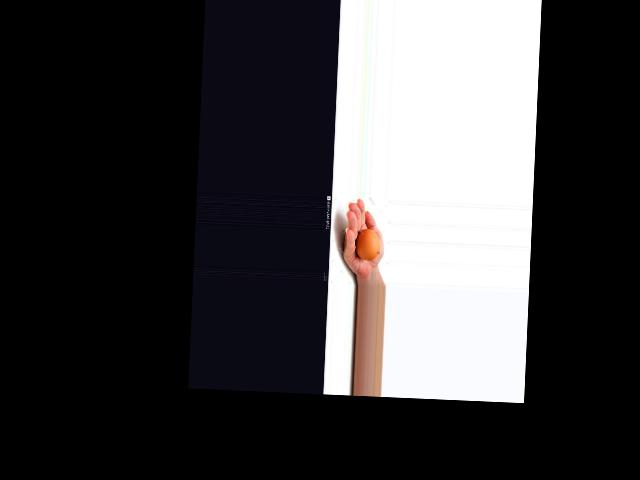egg: (354, 229, 381, 261)
